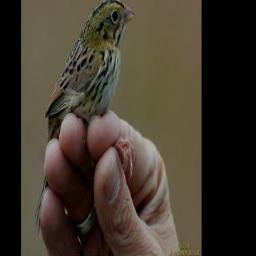Sparrow: (30, 0, 135, 243)
